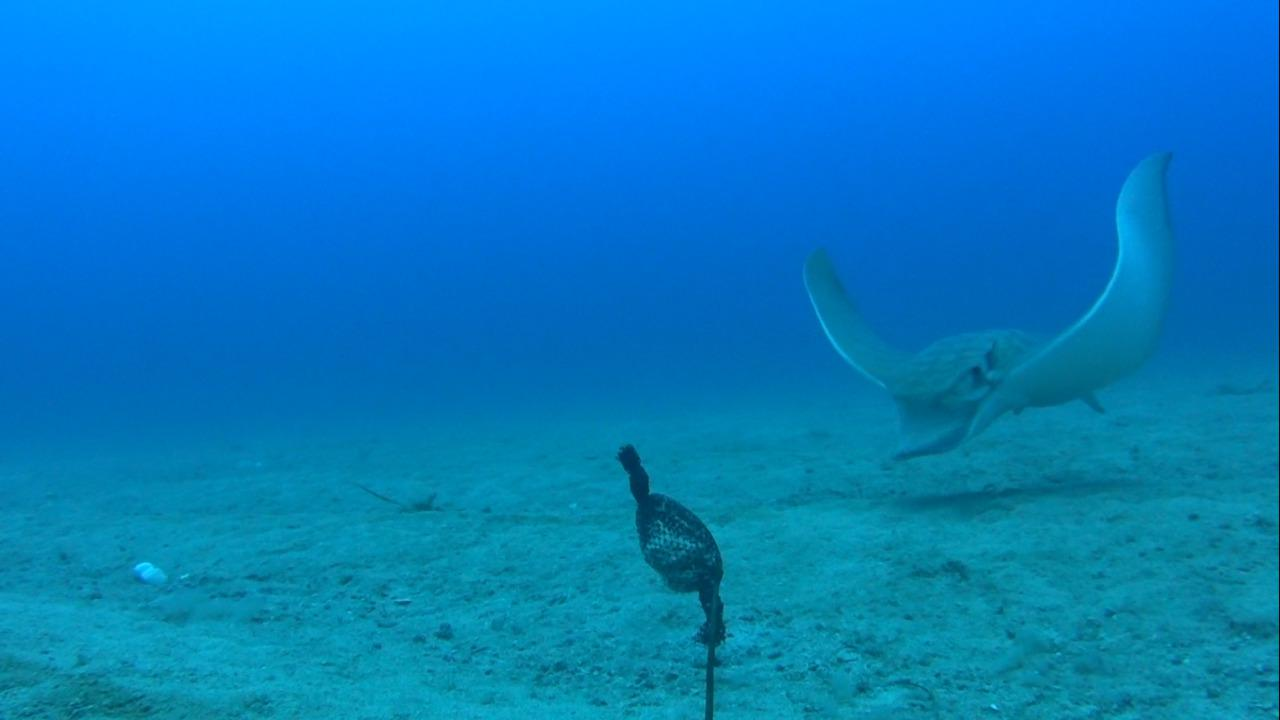myliobatis: (789, 138, 1199, 472)
